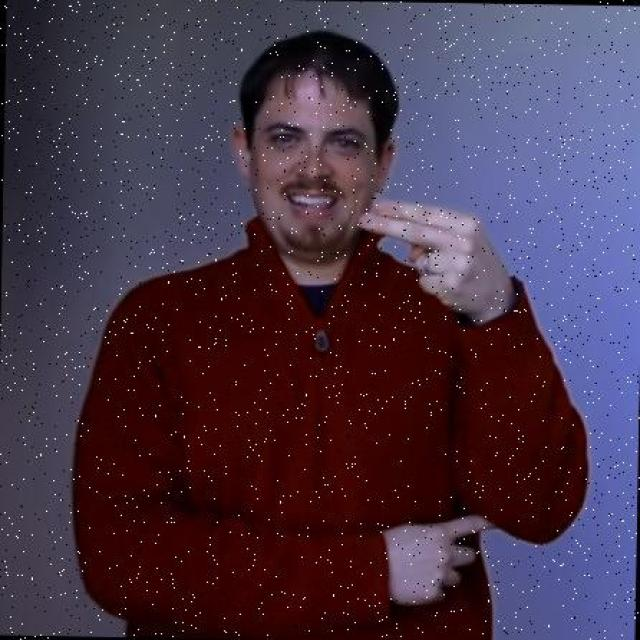H: (352, 194, 515, 319)
